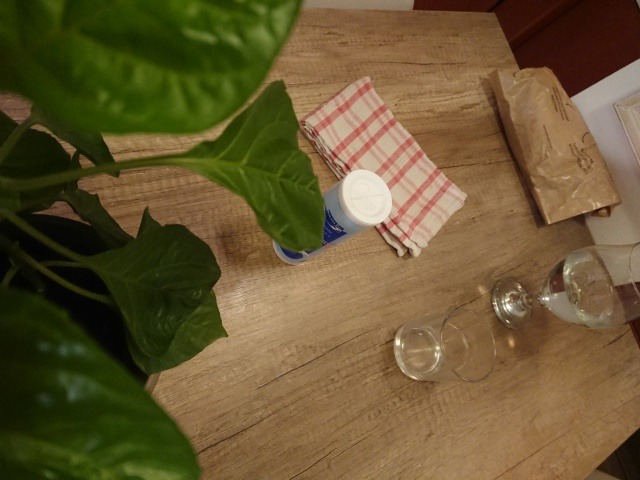Solana Pag Fine Sea Salt 250g: (269, 167, 396, 268)
